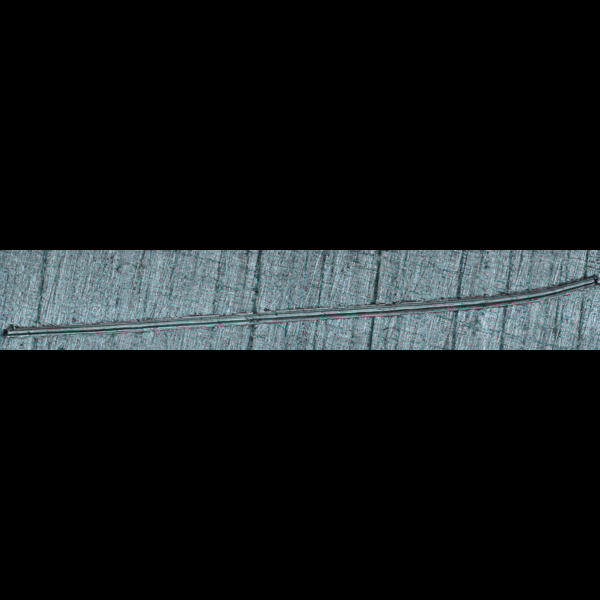d: (0, 268, 599, 341)
